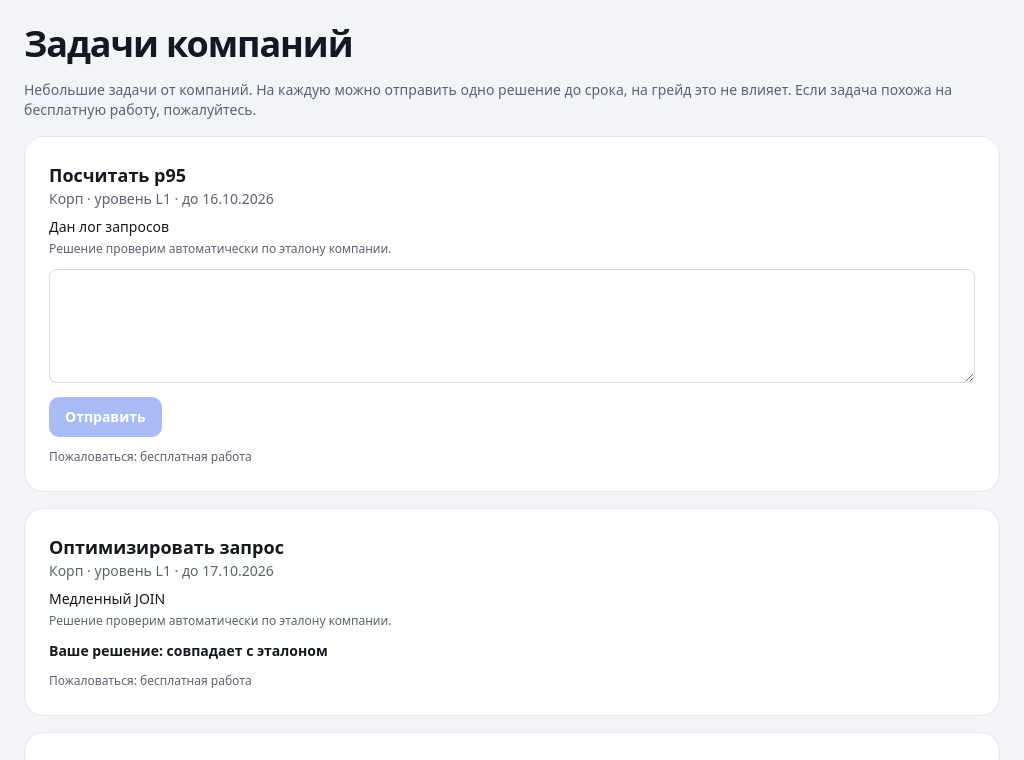
Scenario: TasksPage › complains about free work with a comment
The image size is (1024, 760).
Step 1. Click the button "Пожаловаться: бесплатная работа" below "Дан лог запросов" → point(150, 457), box [49, 449, 252, 465]
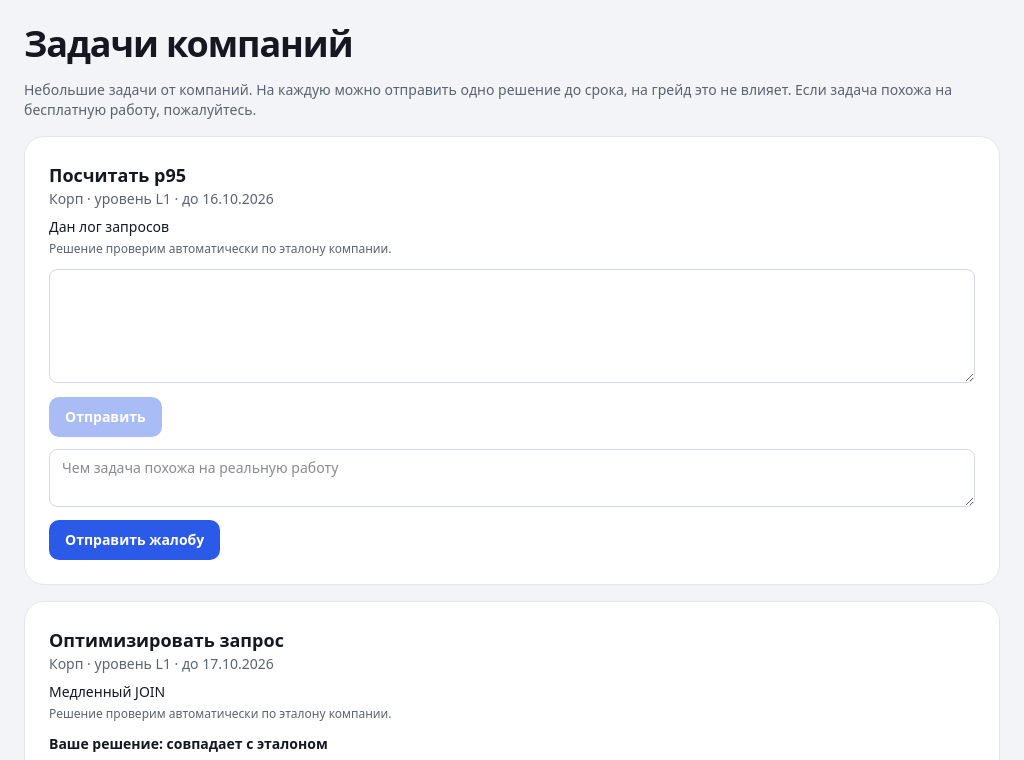
Step 2. Type "Реальная задача из бэклога" into the text box named "Комментарий к жалобе" → point(512, 478), box [49, 449, 975, 507]
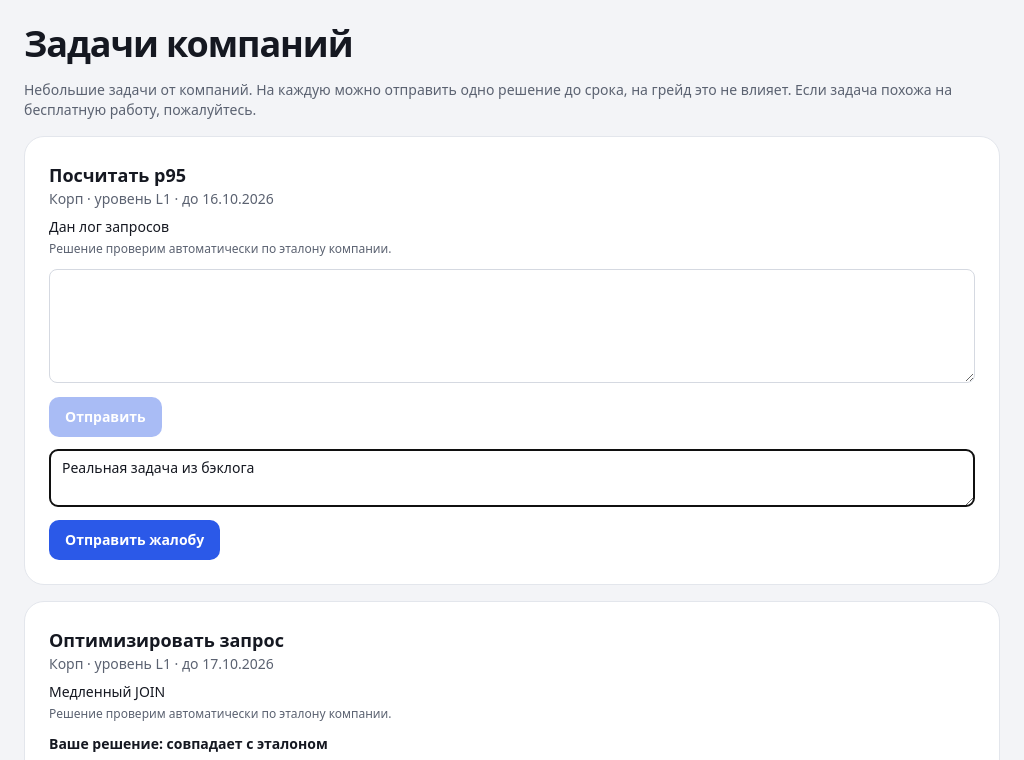
Step 3. Click the button "Отправить жалобу" → point(135, 540), box [49, 520, 220, 560]
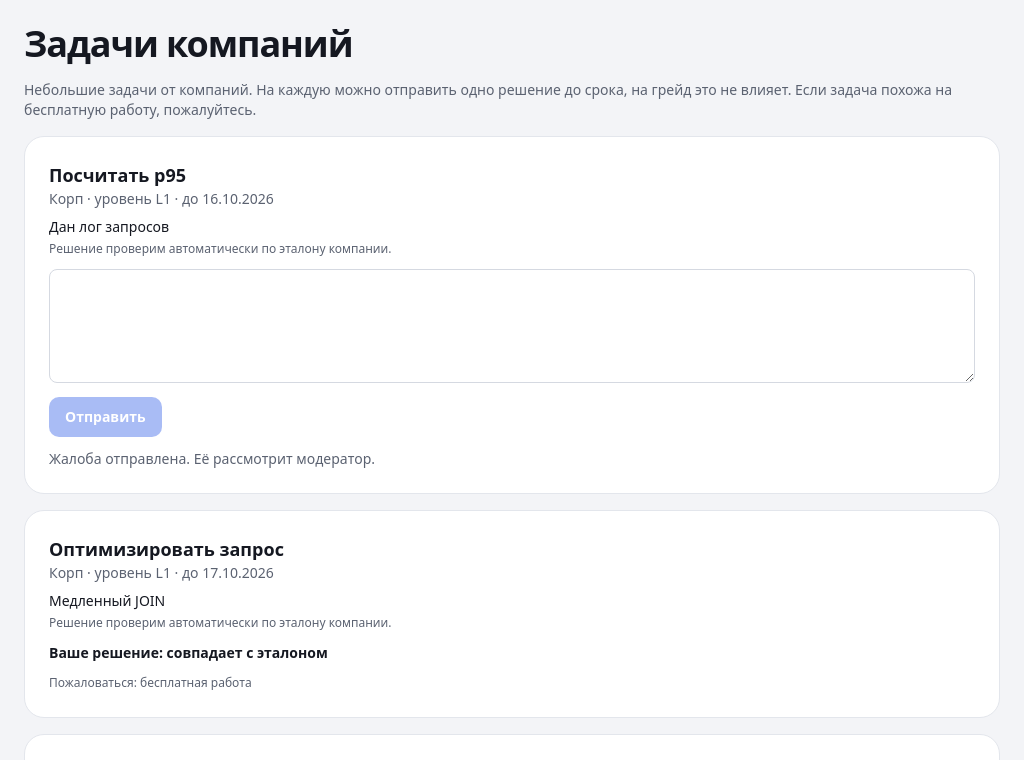
expect the text "Жалоба отправлена. Её рассмотрит модератор." is shown: met, box [49, 449, 375, 468]
